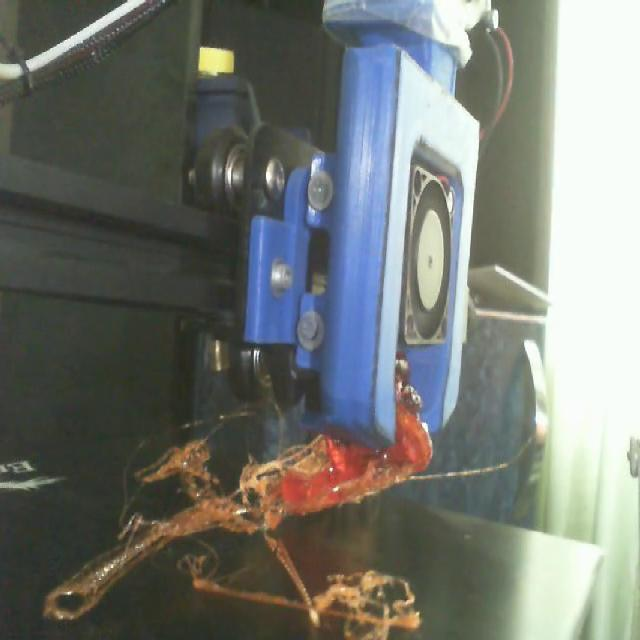spaghetti: (44, 380, 432, 638)
